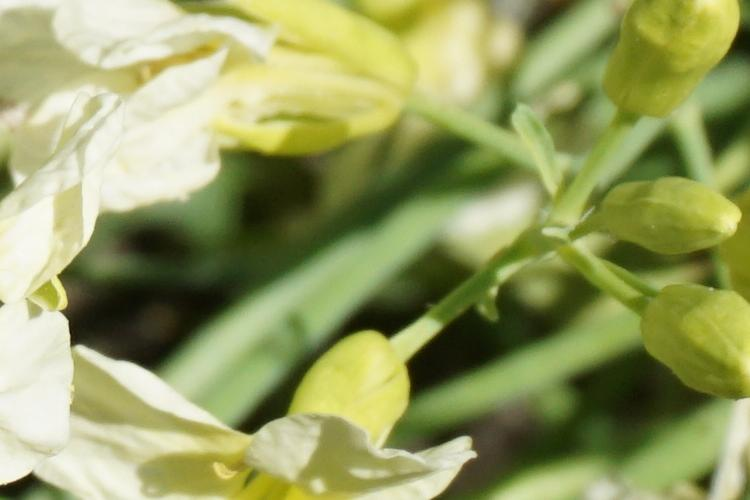bud: (600, 5, 741, 128), (623, 269, 750, 404), (581, 171, 746, 258)
white: (8, 5, 425, 243), (62, 314, 488, 499)
